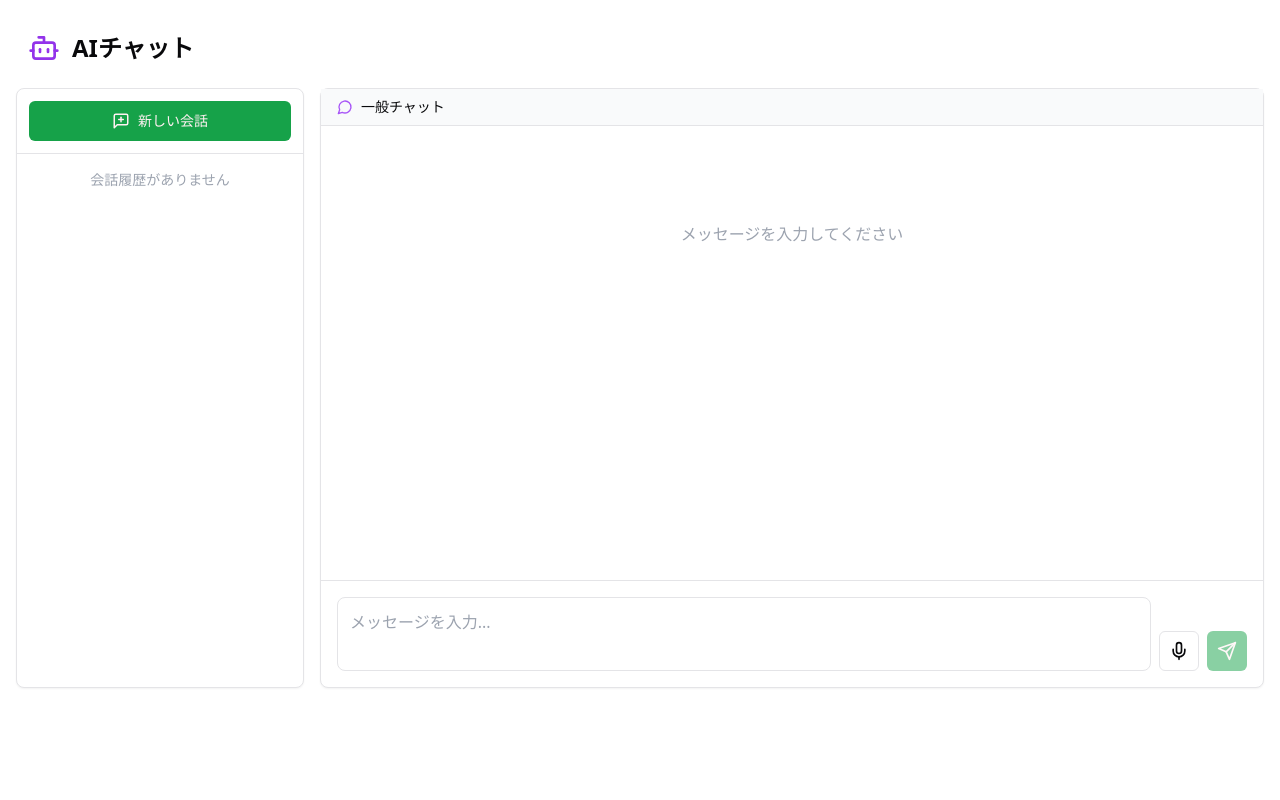
Test: GeminiChatPage › メッセージ送信 › should show error message when API fails
Type "テスト" into the text box with placeholder "メッセージを入力...".
click(744, 634); type("テスト")  # box left=337, top=597, right=1151, bottom=671
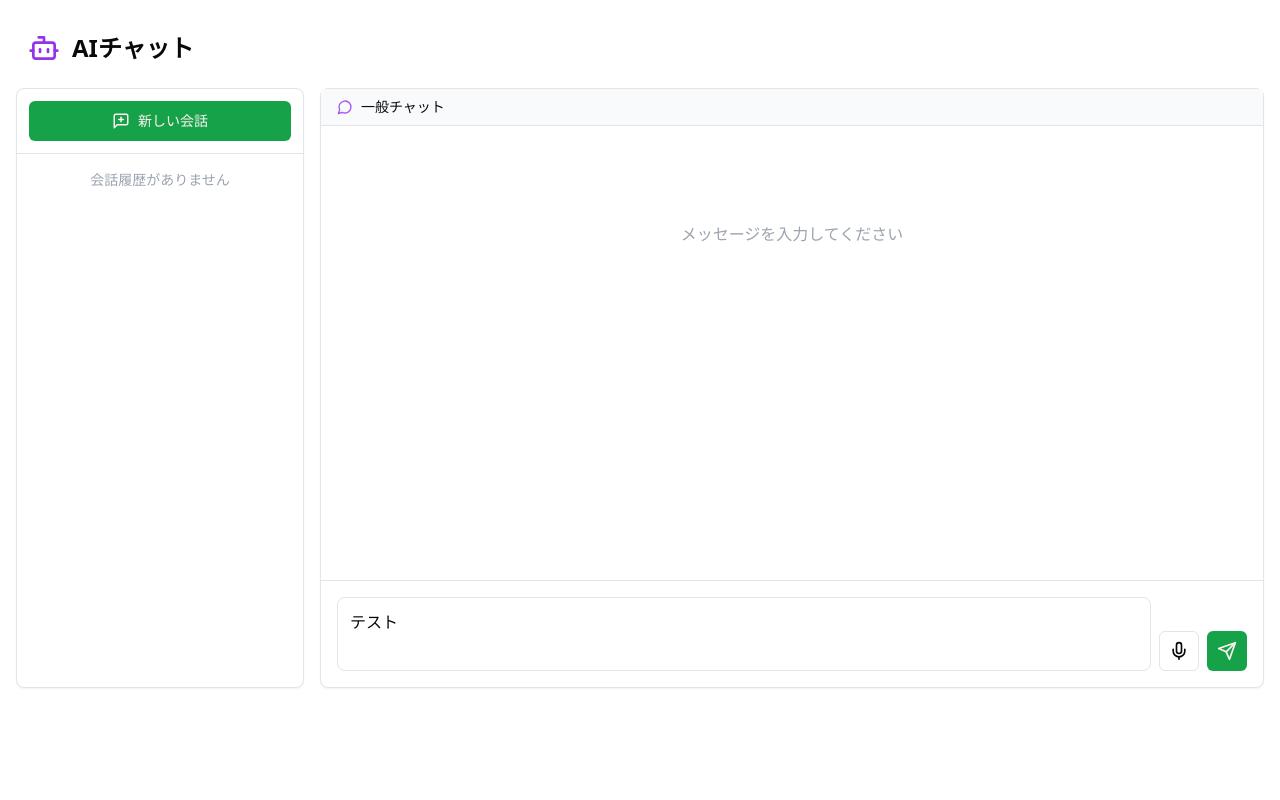
Click the 3rd button.
click(1227, 651)  # box left=1207, top=631, right=1247, bottom=671
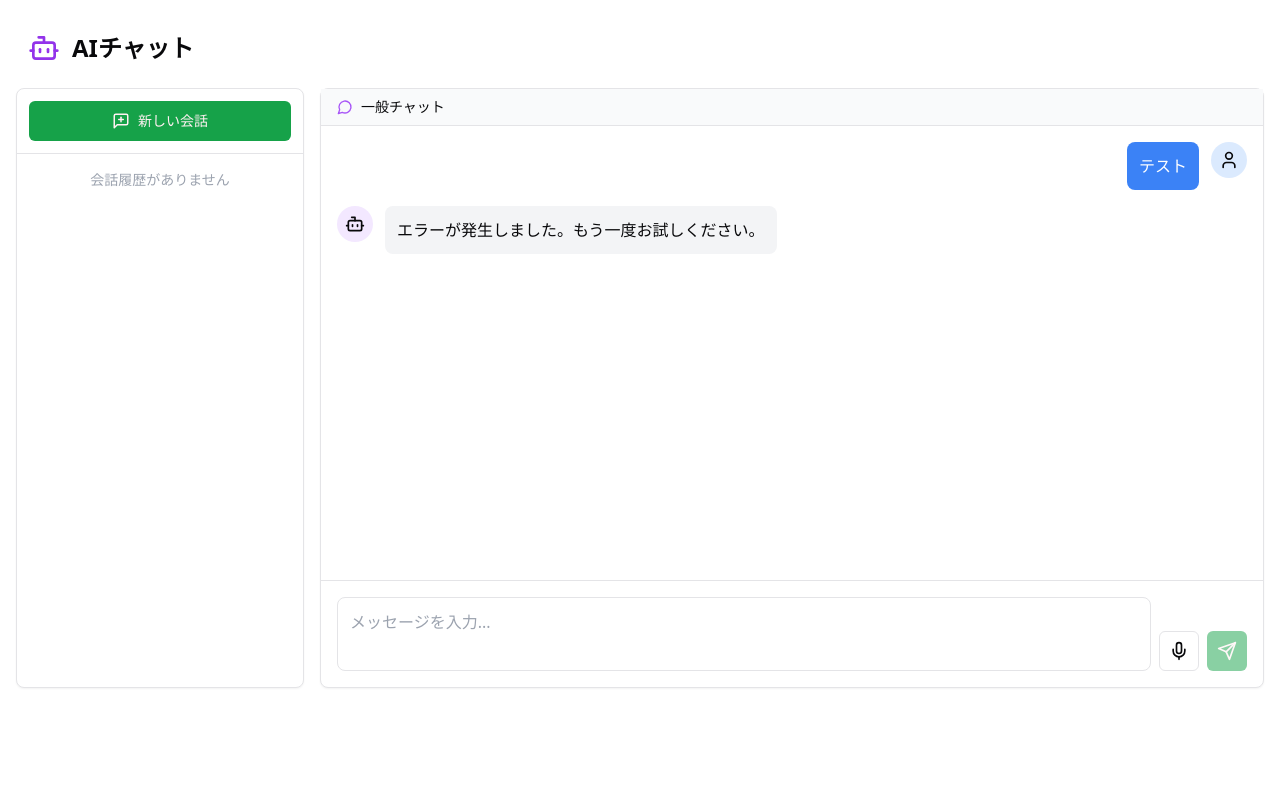
Expected: the text "エラーが発生しました。もう一度お試しください。" is shown, left=397, top=218, right=764, bottom=242
